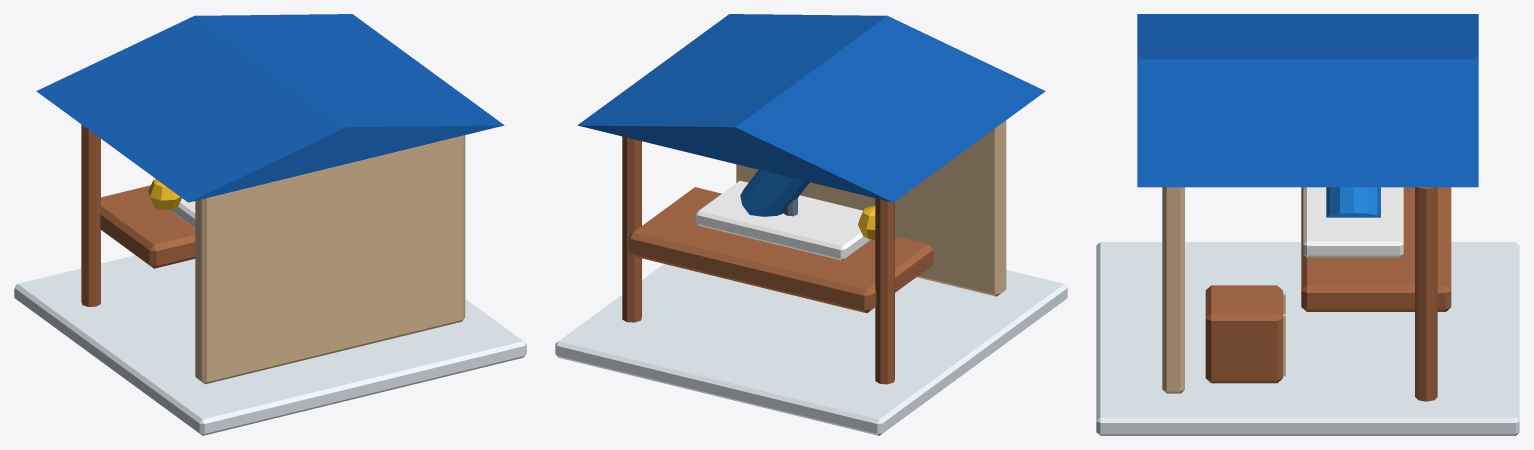
File: Building_Research_2x2_v001.fbx
3 views of the same model, side by side, from view 1: azimuth 30°, elevation 25°; view 2: azimuth 150°, elevation 25°; view 3: azimuth 270°, elevation 25° (orthographic). The views are drawn at different scales.
Parts seen in each view (by area): view 1: Roof, BackWall, Foundation, Worktop, Post.001, Lamp_Anim; view 2: Roof, Foundation, Worktop, BackWall, Desk, Post.001, Post, Telescope_Anim, Lamp_Anim; view 3: Roof, Foundation, Worktop, Crate, Desk, Post, BackWall, Telescope_Anim.
Boxes of the visible parts, bbox=[...] form: Roof: bbox=[36, 14, 504, 202]; BackWall: bbox=[195, 135, 465, 384]; Foundation: bbox=[14, 255, 526, 435]; Worktop: bbox=[100, 185, 195, 268]; Post.001: bbox=[81, 124, 100, 306]; Lamp_Anim: bbox=[148, 179, 181, 209]; Roof: bbox=[577, 14, 1045, 202]; Foundation: bbox=[555, 264, 1067, 435]; Worktop: bbox=[628, 187, 933, 313]; BackWall: bbox=[736, 120, 1006, 296]; Desk: bbox=[695, 180, 870, 260]; Post.001: bbox=[875, 198, 894, 384]; Post: bbox=[622, 136, 641, 322]; Telescope_Anim: bbox=[740, 170, 809, 216]; Lamp_Anim: bbox=[858, 206, 875, 239]; Roof: bbox=[1137, 14, 1478, 187]; Foundation: bbox=[1096, 242, 1519, 435]; Worktop: bbox=[1301, 187, 1451, 311]; Crate: bbox=[1205, 285, 1282, 383]; Desk: bbox=[1303, 187, 1403, 257]; Post: bbox=[1415, 187, 1437, 401]; BackWall: bbox=[1162, 187, 1184, 393]; Telescope_Anim: bbox=[1326, 187, 1380, 217].
Bounding box in the file's own units: 186 × 140 × 186.
